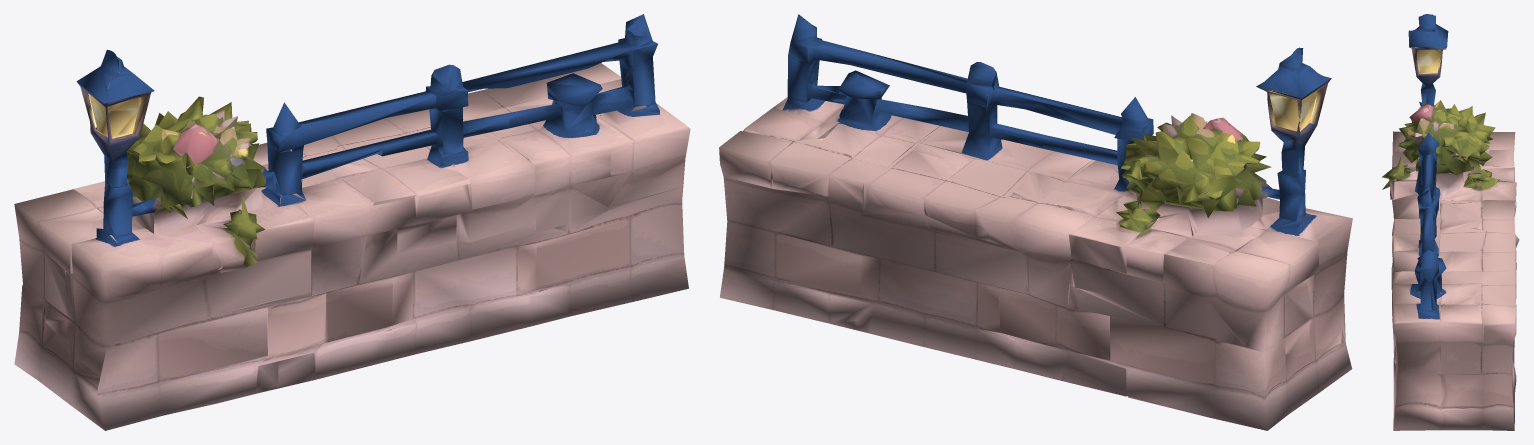
Rendered from M-13_01_embankment.glb.
3 views of the same model, side by side, from view 1: azimuth 30°, elevation 25°; view 2: azimuth 150°, elevation 25°; view 3: azimuth 270°, elevation 25° (orthographic). The views are drawn at different scales.
Parts seen in each view (by area): view 1: embankment; view 2: embankment; view 3: embankment.
Part boxes in pixels (box(x1,y1,x2,y2)): embankment: box(14, 14, 690, 430); embankment: box(719, 14, 1352, 430); embankment: box(1382, 14, 1519, 430).
Bounding box in the file's own units: 5.99 × 3.45 × 1.82.
Materials: 1 (1 with a texture image).
